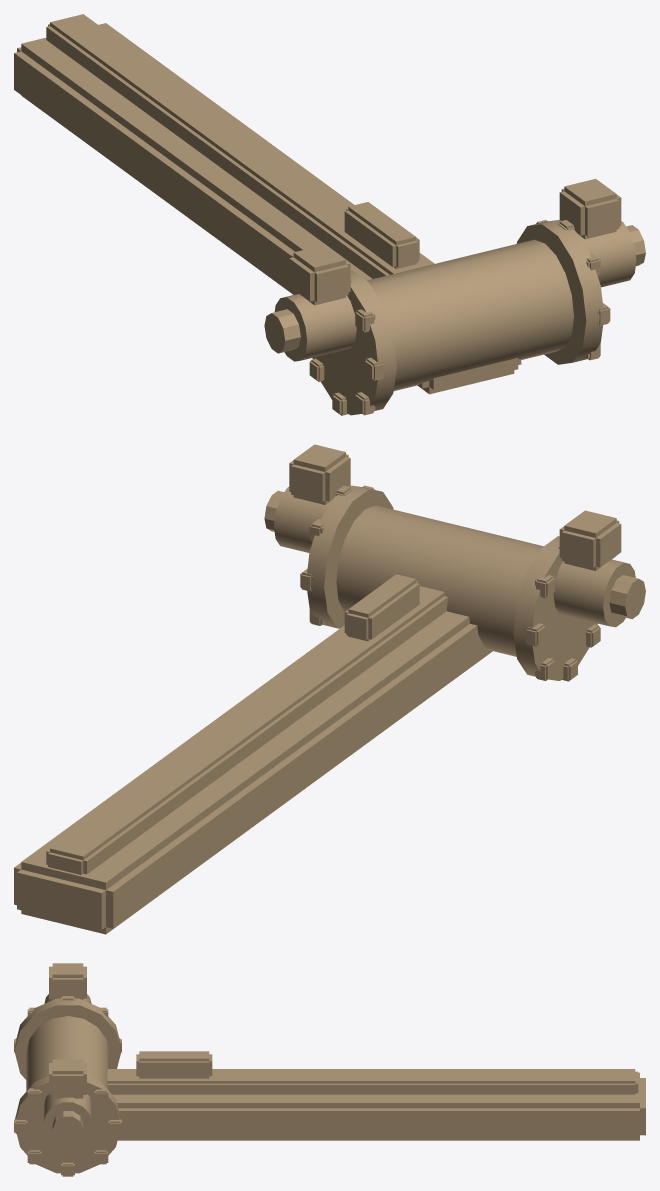
Rendered from ballista_stock.glb.
3 views of the same model, one above another, from view 1: azimuth 30°, elevation 25°; view 2: azimuth 150°, elevation 25°; view 3: azimuth 270°, elevation 25° (orthographic). The views are drawn at different scales.
Parts seen in each view (by area): view 1: ballista_stock; view 2: ballista_stock; view 3: ballista_stock.
Part boxes in pixels (x1,y1,x2,y2): ballista_stock: (14,14,645,415); ballista_stock: (14,444,645,934); ballista_stock: (14,963,645,1176).
Size of the model in its own units: 0.4 by 0.171 by 0.831.
